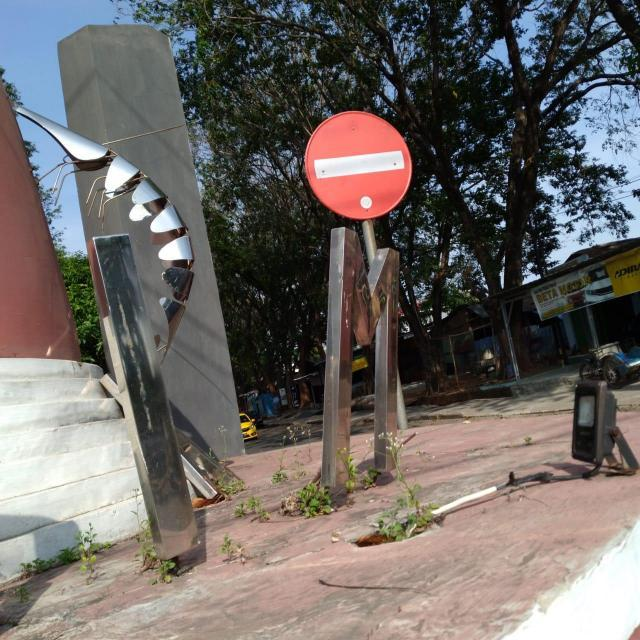traffic sign: (308, 112, 410, 222)
